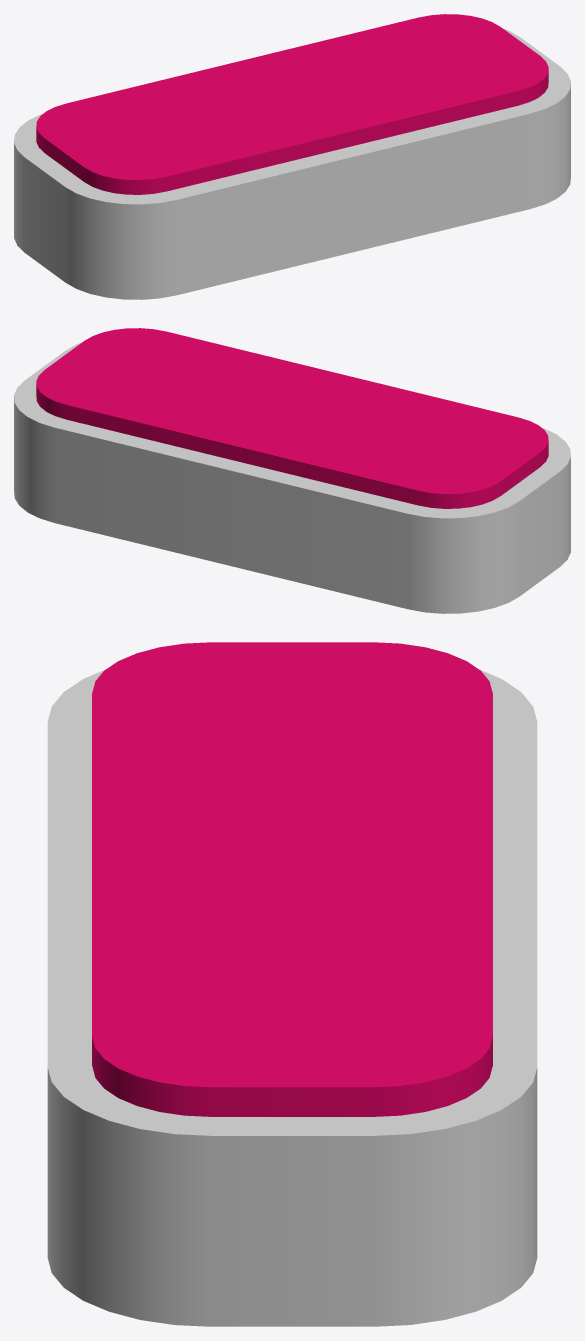
File: Light.fbx
The picture shows the model from 3 angles, top to bottom: view 1: azimuth 30°, elevation 25°; view 2: azimuth 150°, elevation 25°; view 3: azimuth 270°, elevation 25°; orthographic projection. The views are drawn at different scales.
Parts seen in each view (by area): view 1: Light; view 2: Light; view 3: Light.
Part boxes in pixels (box(x1,y1,x2,y2)): Light: box(14, 14, 570, 299); Light: box(14, 328, 570, 613); Light: box(47, 642, 537, 1326).
Bounding box in the file's own units: 70 × 14.91 × 30.
